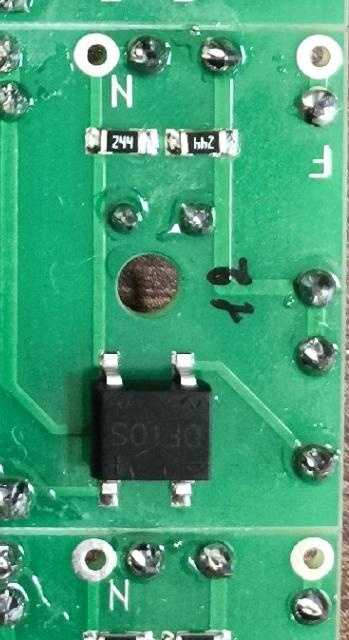chip-resistor: (83, 125, 160, 156), (165, 127, 240, 158)
ic: (90, 348, 214, 508)
